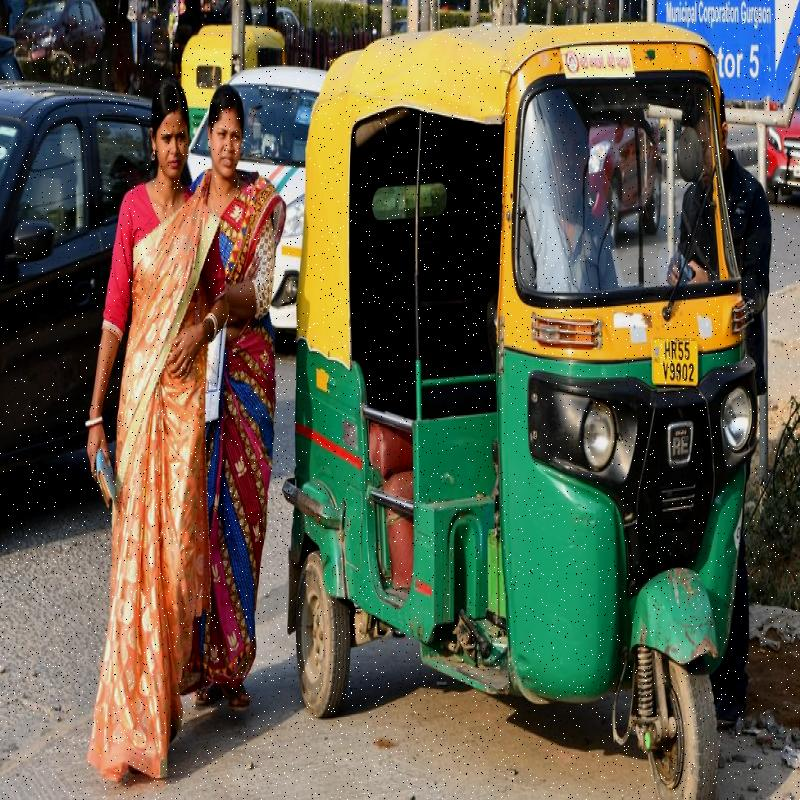auto: (291, 66, 738, 792)
